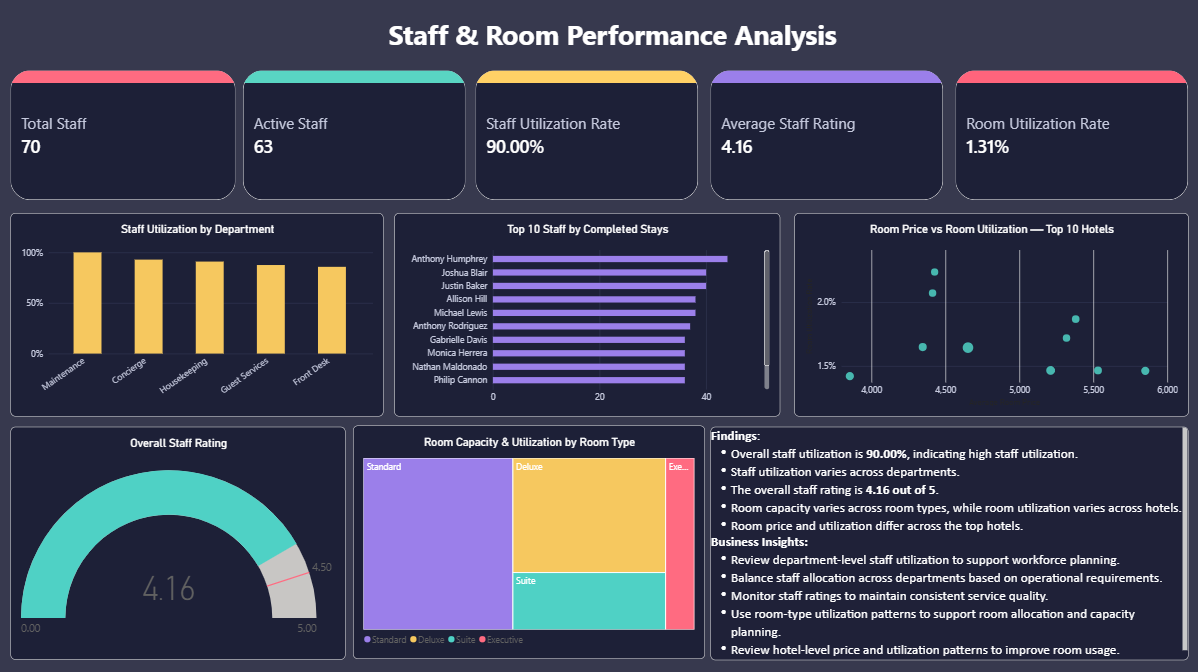

This screenshot's page, from the dashboard's own definition file:
{"tool":"powerbi","page":{"name":"5.4","canvas":[1920,1080],"ordinal":4},"visuals":[{"type":"cardVisual","fields":{"Data":["staff.Total Staff"]},"box":[20.6,115.3,360.2,207.9],"z":0},{"type":"cardVisual","fields":{"Data":["staff.Active Staff"]},"box":[391.1,115.3,356.1,207.9],"z":1000},{"type":"cardVisual","fields":{"Data":["staff.Staff Utilization Rate"]},"box":[763.6,115.3,356.1,207.9],"z":2000},{"type":"cardVisual","fields":{"Data":["staff.Average Staff Rating"]},"box":[1140.3,115.3,372.6,207.9],"z":3000},{"type":"cardVisual","fields":{"Data":["rooms.Room Utilization Rate"]},"box":[1531.4,115.3,372.6,207.9],"z":4000},{"type":"textbox","box":[1140.1,685.4,764.6,373.2],"z":5000},{"type":"textbox","box":[557.4,29,850.5,67],"z":6000},{"type":"barChart","title":"Top 10 Staff by Completed Stays","fields":{"Category":["staff.staff_name"],"Y":["stays.Completed Stays"]},"box":[633.4,343.8,617.5,325.7],"z":7000},{"type":"treemap","title":"Room Capacity & Utilization by Room Type","fields":{"Group":["rooms.room_type"],"Values":["rooms.Total Rooms"]},"box":[568.2,684.5,563.2,373.2],"z":8000},{"type":"clusteredColumnChart","title":"Staff Utilization by Department","fields":{"Category":["staff.department"],"Y":["staff.Staff Utilization Rate"]},"box":[20.4,343.8,597.2,325.7],"z":9000},{"type":"scatterChart","title":"Room Price vs Room Utilization — Top 10 Hotels","fields":{"Category":["hotels.hotel_name"],"Size":["rooms.Total Rooms"],"X":["rooms.Average Room Price"],"Y":["rooms.Room Utilization Rate"]},"box":[1273.5,343.8,631.1,325.7],"z":10000},{"type":"gauge","title":"Overall Staff Rating","fields":{"Y":["staff.Average Staff Rating"]},"box":[20,685,536,373],"z":11000}]}

Visuals, with their boxes in screenshot pixels (x1, y1, x2, y2), scaled from the page's 1920x1080 canvas onto the 1198x672 screenshot:
cardVisual - staff.Total Staff: x1=13 y1=72 x2=238 y2=201
cardVisual - staff.Active Staff: x1=244 y1=72 x2=466 y2=201
cardVisual - staff.Staff Utilization Rate: x1=476 y1=72 x2=699 y2=201
cardVisual - staff.Average Staff Rating: x1=711 y1=72 x2=944 y2=201
cardVisual - rooms.Room Utilization Rate: x1=956 y1=72 x2=1188 y2=201
textbox: x1=711 y1=426 x2=1188 y2=659
textbox: x1=348 y1=18 x2=878 y2=60
"Top 10 Staff by Completed Stays" barChart: x1=395 y1=214 x2=781 y2=417
"Room Capacity & Utilization by Room Type" treemap: x1=355 y1=426 x2=706 y2=658
"Staff Utilization by Department" clusteredColumnChart: x1=13 y1=214 x2=385 y2=417
"Room Price vs Room Utilization — Top 10 Hotels" scatterChart: x1=795 y1=214 x2=1188 y2=417
"Overall Staff Rating" gauge: x1=12 y1=426 x2=347 y2=658
